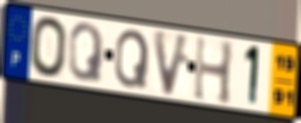1: (241, 43, 262, 109)
H: (192, 34, 236, 108)
O: (29, 14, 69, 80)
Q: (67, 21, 106, 85), (113, 27, 151, 90)
V: (151, 27, 193, 99)
